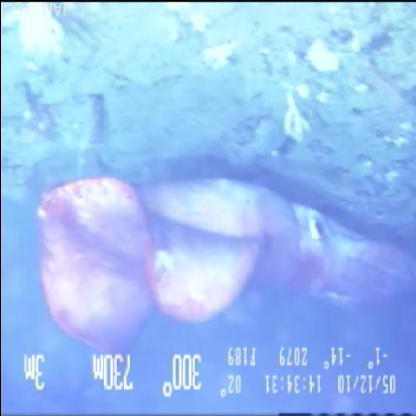Bio: (33, 164, 415, 363)
